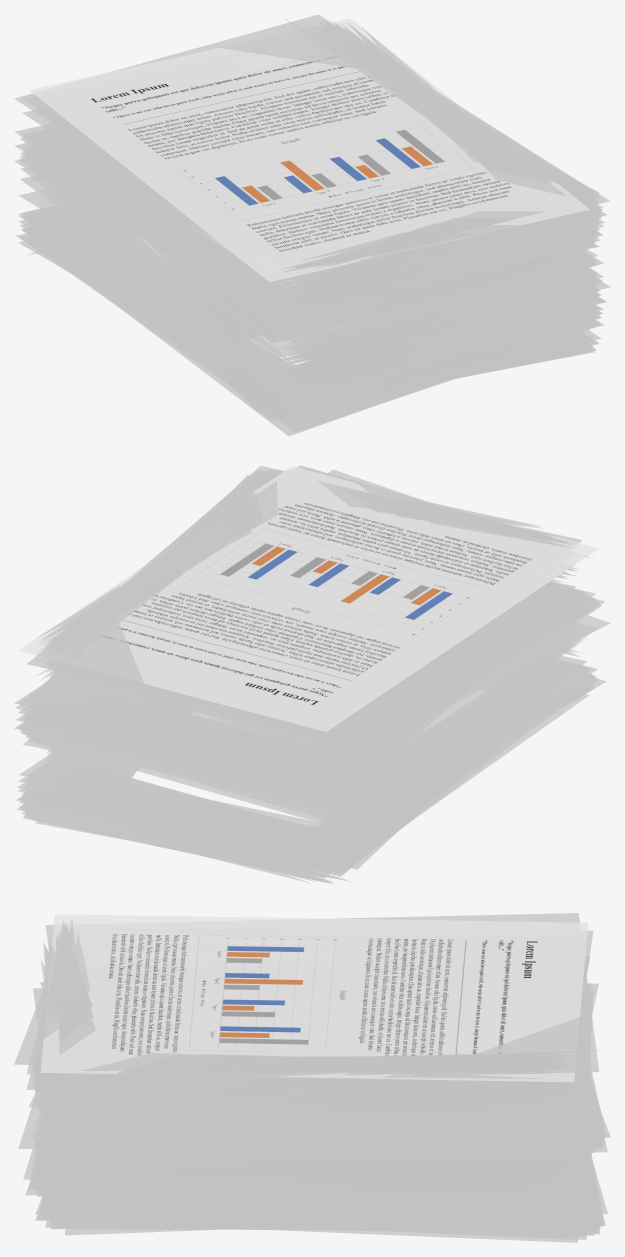
File: paper stack.gltf
3 views of the same model, one above another, from view 1: azimuth 30°, elevation 25°; view 2: azimuth 150°, elevation 25°; view 3: azimuth 270°, elevation 25° (orthographic). The views are drawn at different scales.
Visible parts, largest first — view 1: Pile_9; view 2: Pile_9; view 3: Pile_9.
Boxes of the visible parts, <box> form: Pile_9: <box>14,14,610,436</box>; Pile_9: <box>14,465,610,884</box>; Pile_9: <box>14,913,610,1242</box>.
Size of the model in its own units: 0.2492 by 0.1047 by 0.3321.
Materials: 2 (1 with a texture image).
